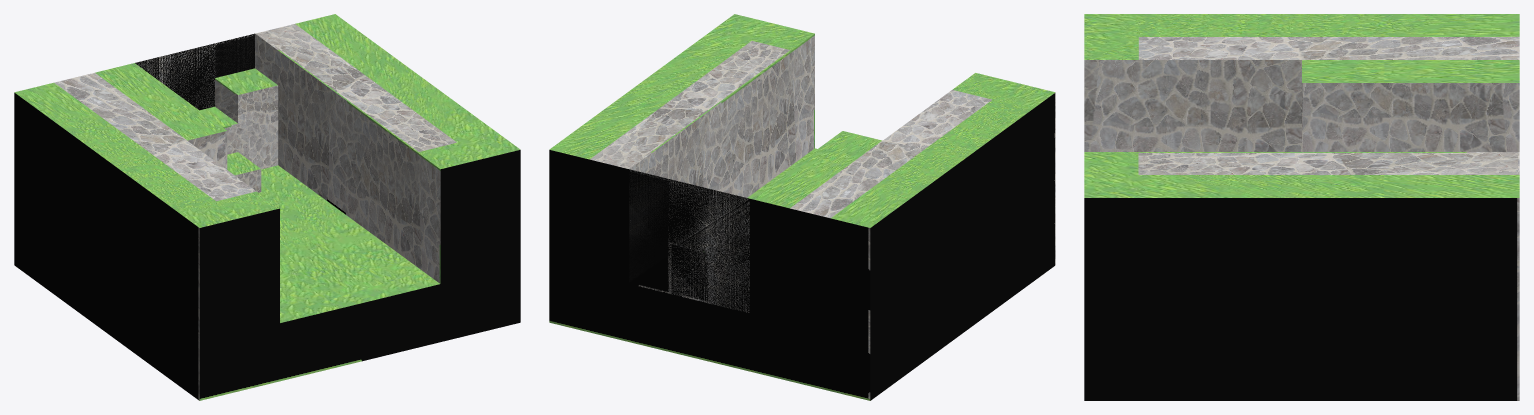
The model's file is jump_puzzle_one.glb.
3 views of the same model, side by side, from view 1: azimuth 30°, elevation 25°; view 2: azimuth 150°, elevation 25°; view 3: azimuth 270°, elevation 25° (orthographic). The views are drawn at different scales.
Parts seen in each view (by area): view 1: Cube; view 2: Cube; view 3: Cube.
Part boxes in pixels (x1=…): Cube: x1=14, y1=14, x2=520, y2=400; Cube: x1=549, y1=14, x2=1055, y2=400; Cube: x1=1084, y1=14, x2=1519, y2=400.
Size of the model in its own units: 9.46 by 4.87 by 9.46.
Materials: 1 (1 with a texture image).
